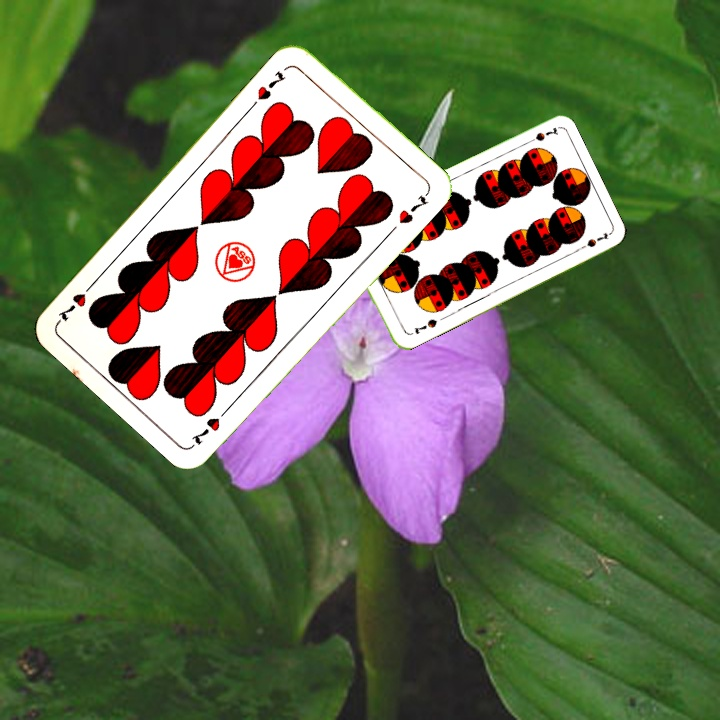H7: (187, 401, 234, 448), (253, 67, 289, 103)
S7: (521, 123, 561, 147), (410, 315, 440, 337)
